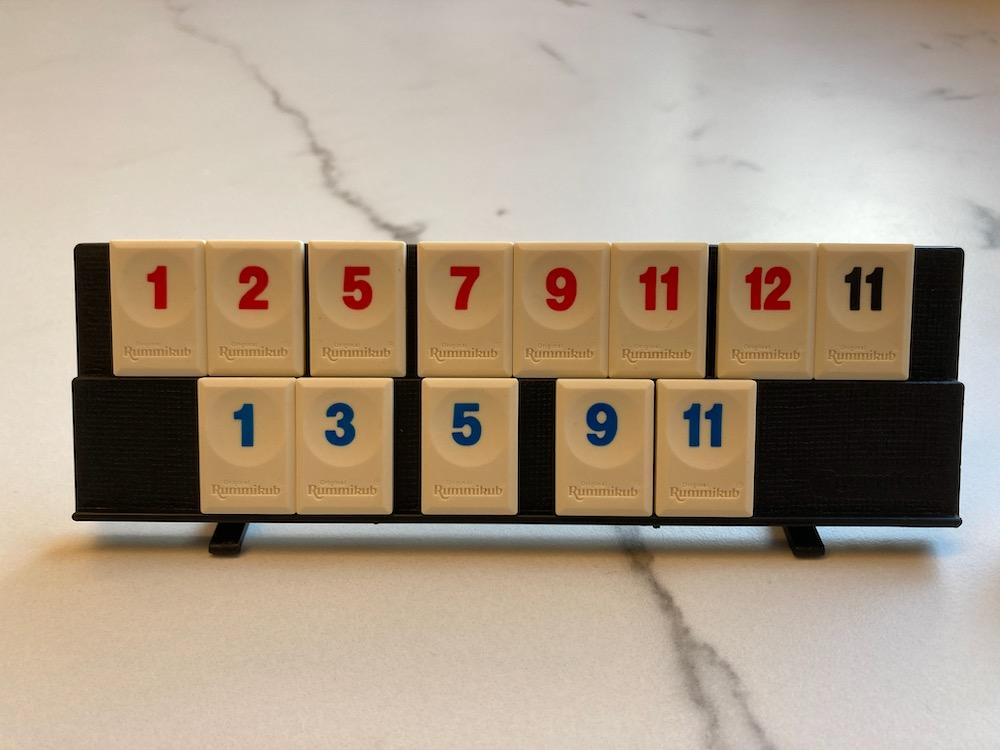black_11: (814, 244, 914, 379)
blue_1: (199, 377, 297, 514)
blue_11: (654, 382, 756, 518)
blue_3: (297, 380, 393, 514)
blue_5: (422, 379, 518, 514)
blue_9: (555, 379, 654, 516)
red_1: (109, 240, 206, 377)
red_11: (609, 242, 709, 377)
red_12: (715, 242, 816, 379)
red_2: (205, 240, 304, 375)
red_5: (310, 242, 406, 377)
red_7: (418, 242, 512, 377)
red_9: (514, 244, 609, 377)
